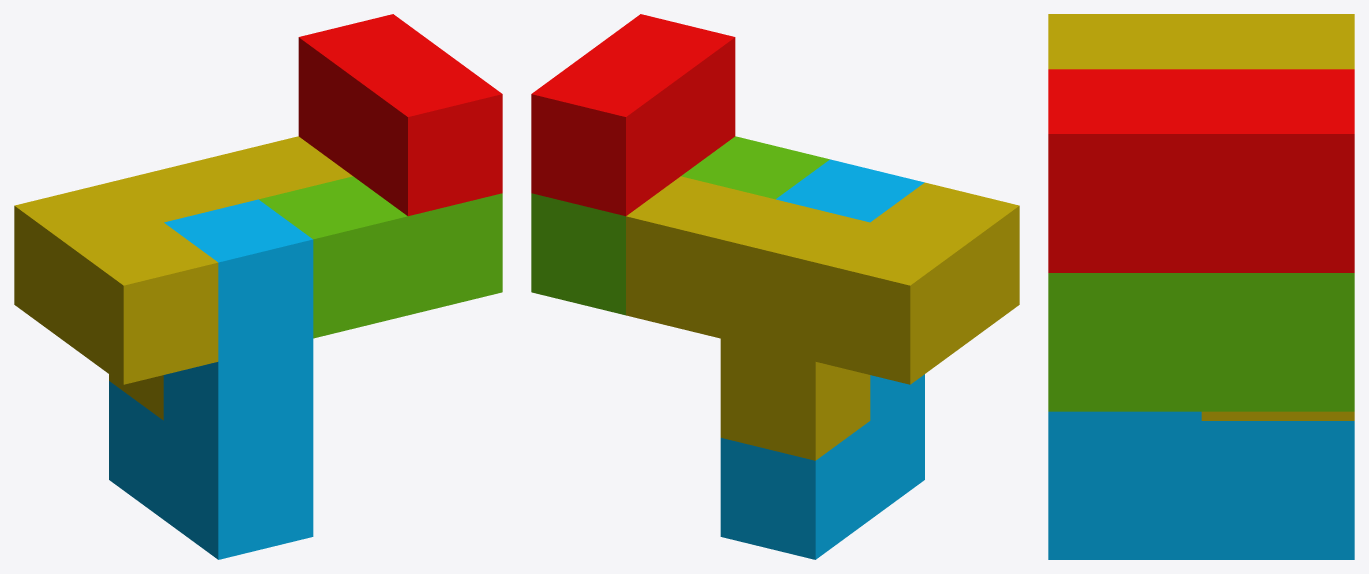
3 renders of one model, left to right at view 1: azimuth 30°, elevation 25°; view 2: azimuth 150°, elevation 25°; view 3: azimuth 270°, elevation 25°, orthographic. The views are drawn at different scales.
Parts seen in each view (by area): view 1: mergedBlocks(Clone); view 2: mergedBlocks(Clone); view 3: mergedBlocks(Clone).
Part boxes in pixels (x1=…): mergedBlocks(Clone): x1=14, y1=14, x2=502, y2=559; mergedBlocks(Clone): x1=531, y1=14, x2=1019, y2=559; mergedBlocks(Clone): x1=1048, y1=14, x2=1354, y2=559.
Size of the model in its own units: 4 by 4 by 2.
4 materials, 4 textured.
